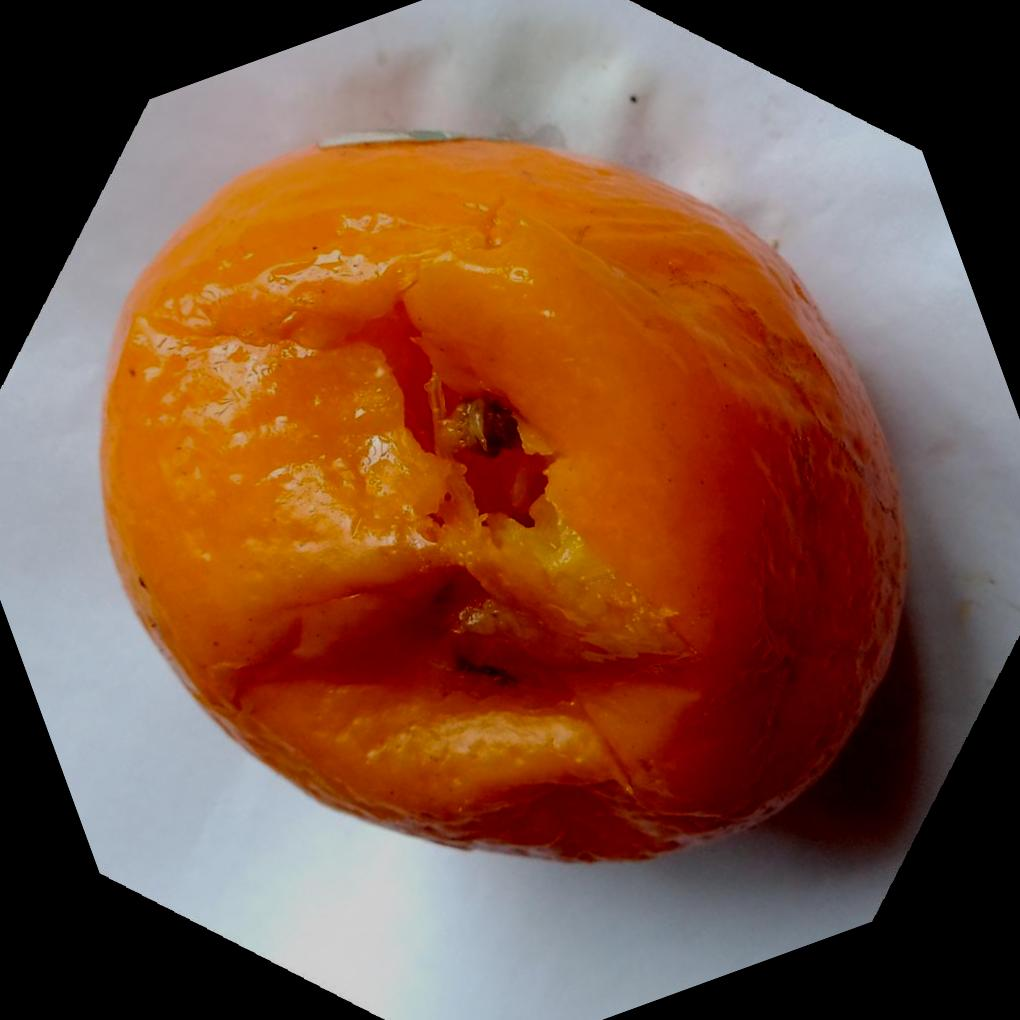FreshOrange: (98, 136, 911, 869)
